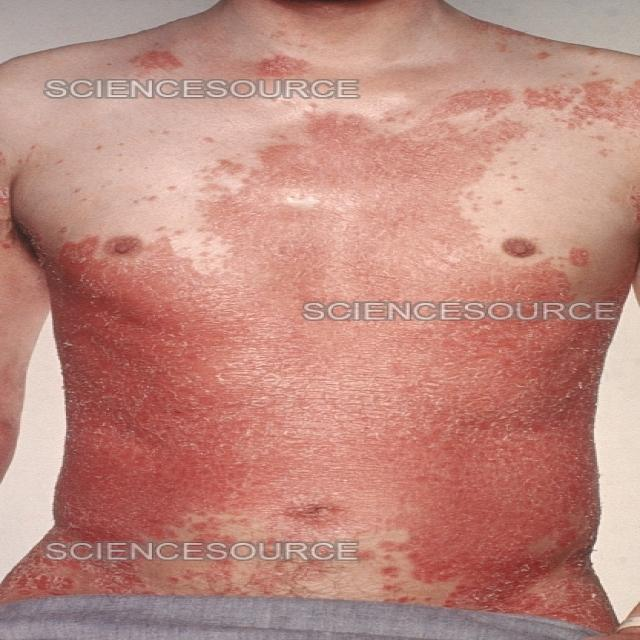Psoriasis Eritrodermica: (2, 0, 638, 639)
